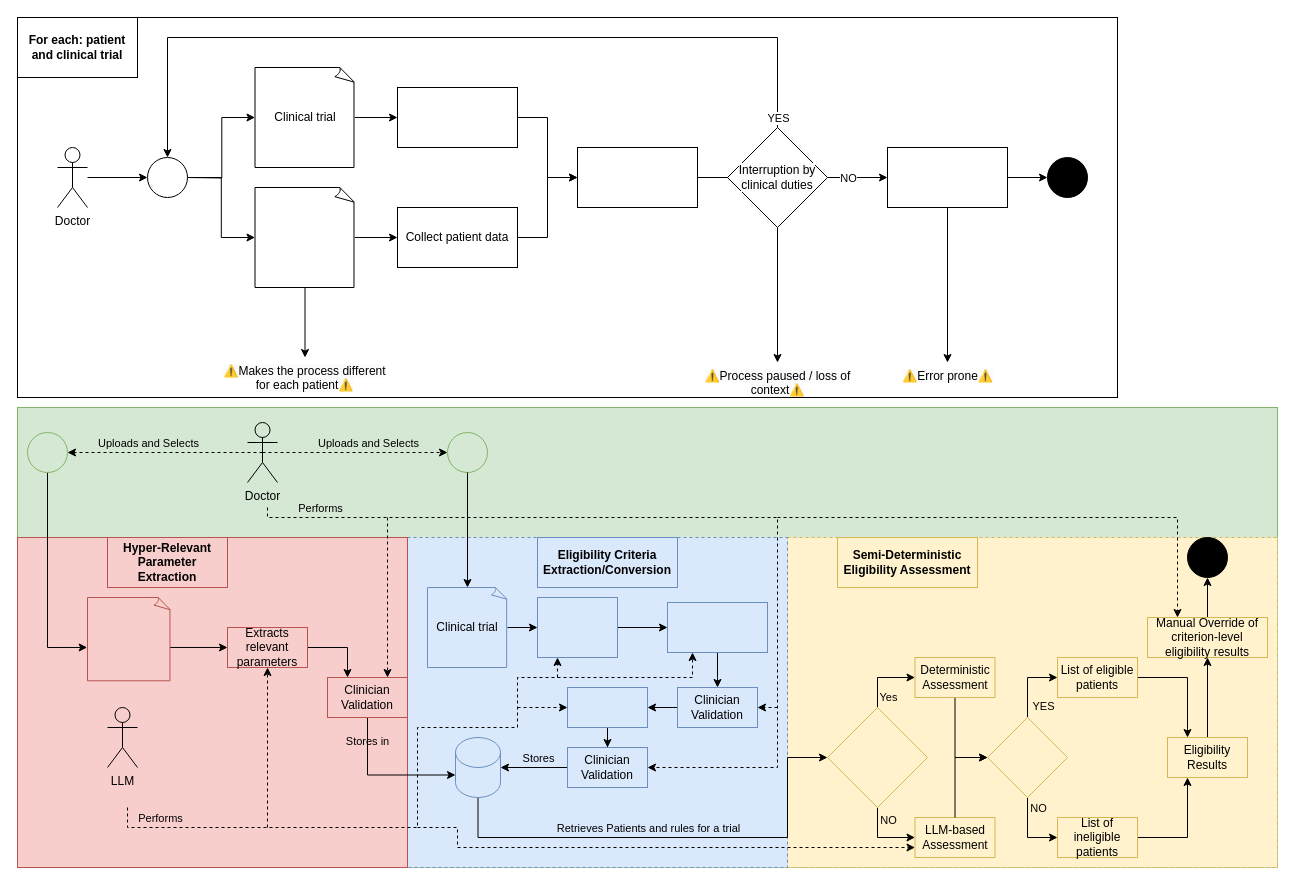
The diagram is 1295 pixels wide and 885 high, and some of its shapes have lost their labels. The centre of each missing label's shape, as x and y in pixels:
Clinial diary: (x=128, y=638)
Converts into computer-readable logic: (x=607, y=707)
Database: (x=477, y=767)
Eligible patient?: (x=1027, y=757)
Extracts inclusion/ exclusion criteria: (x=717, y=627)
Indentify if patient is eligible: (x=947, y=177)
Is criterion in schema: (x=877, y=757)
Manual comparison: (x=637, y=177)
Non-standard Clinial diary for a singlle patient: (x=304, y=237)
Read inclusion/exlusion criteria: (x=457, y=117)
Trial Structure Identification: (x=577, y=627)
